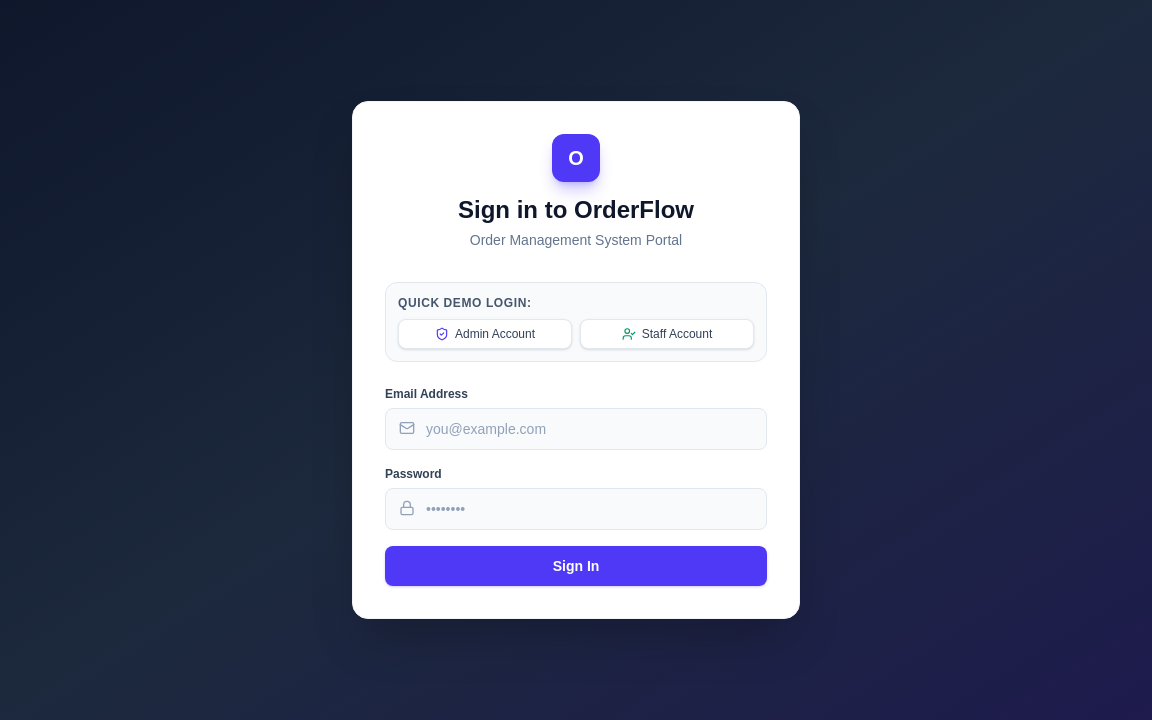
Test case: LoginPage Component › renders login form and quick demo credentials
Expected: the heading "Sign in to OrderFlow" is shown, left=458, top=196, right=694, bottom=223
Expected: the text "Admin Account" is shown, left=455, top=326, right=535, bottom=342
Note: Click quick fill Admin Account
Click the button "Admin Account": (485, 334) left=398, top=319, right=572, bottom=349
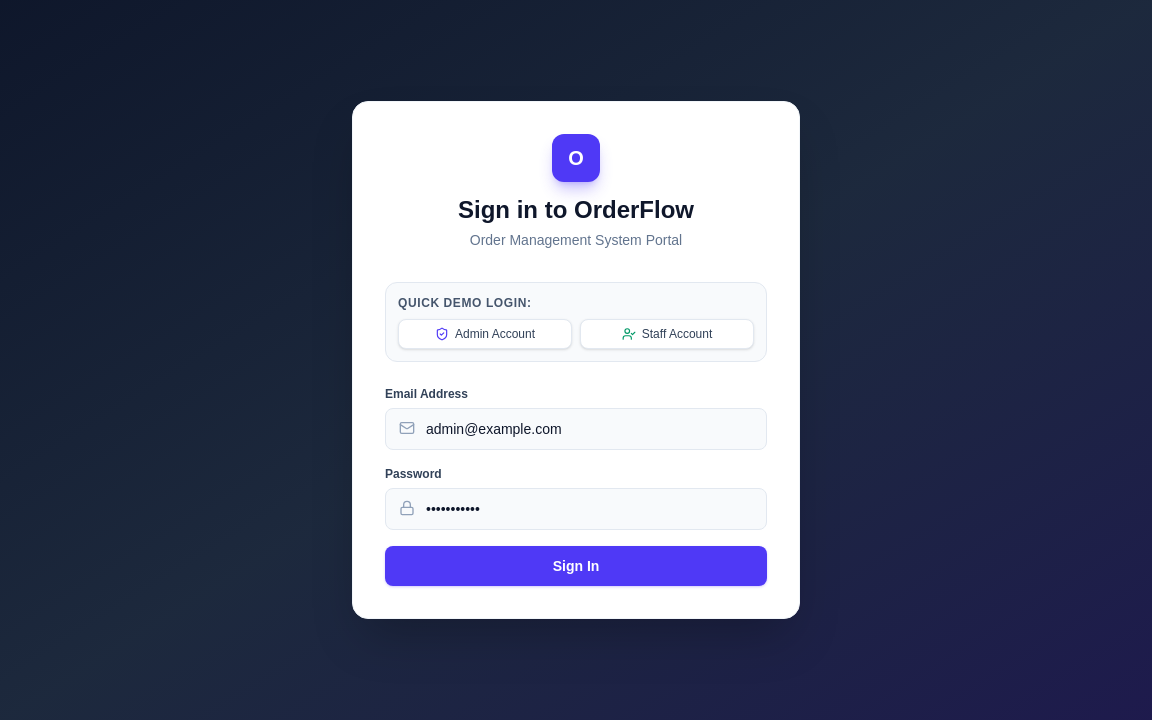
Expected: the field with placeholder "you@example.com" holds "admin@example.com", left=385, top=408, right=767, bottom=450
Expected: the password field with placeholder "••••••••" holds "password123", left=385, top=488, right=767, bottom=530
Note: Click quick fill Staff Account
Click the button "Staff Account": (667, 334) left=580, top=319, right=754, bottom=349
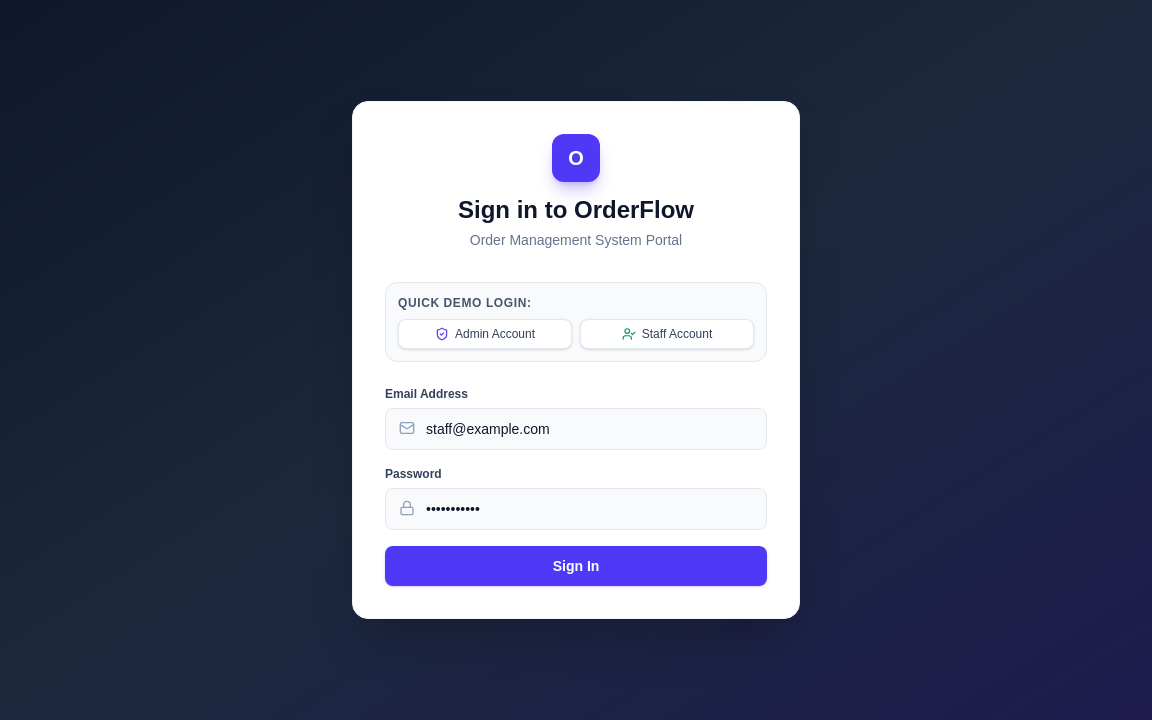
Expected: the password field with placeholder "••••••••" holds "password123", left=385, top=488, right=767, bottom=530
Expected: the field with placeholder "you@example.com" holds "staff@example.com", left=385, top=408, right=767, bottom=450
